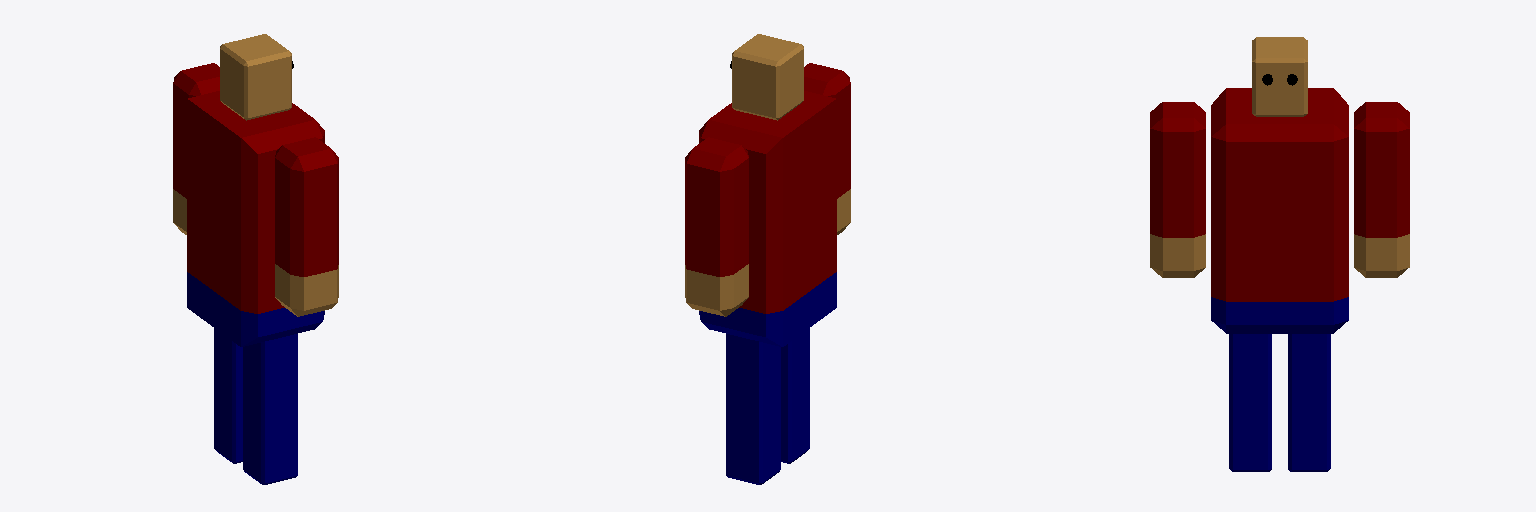
3 renders of one model, left to right at view 1: azimuth 30°, elevation 25°; view 2: azimuth 150°, elevation 25°; view 3: azimuth 270°, elevation 25°, orthographic.
Size of the model in its own units: 0.2495 by 1.19 by 0.6686.
1 materials, 1 textured.